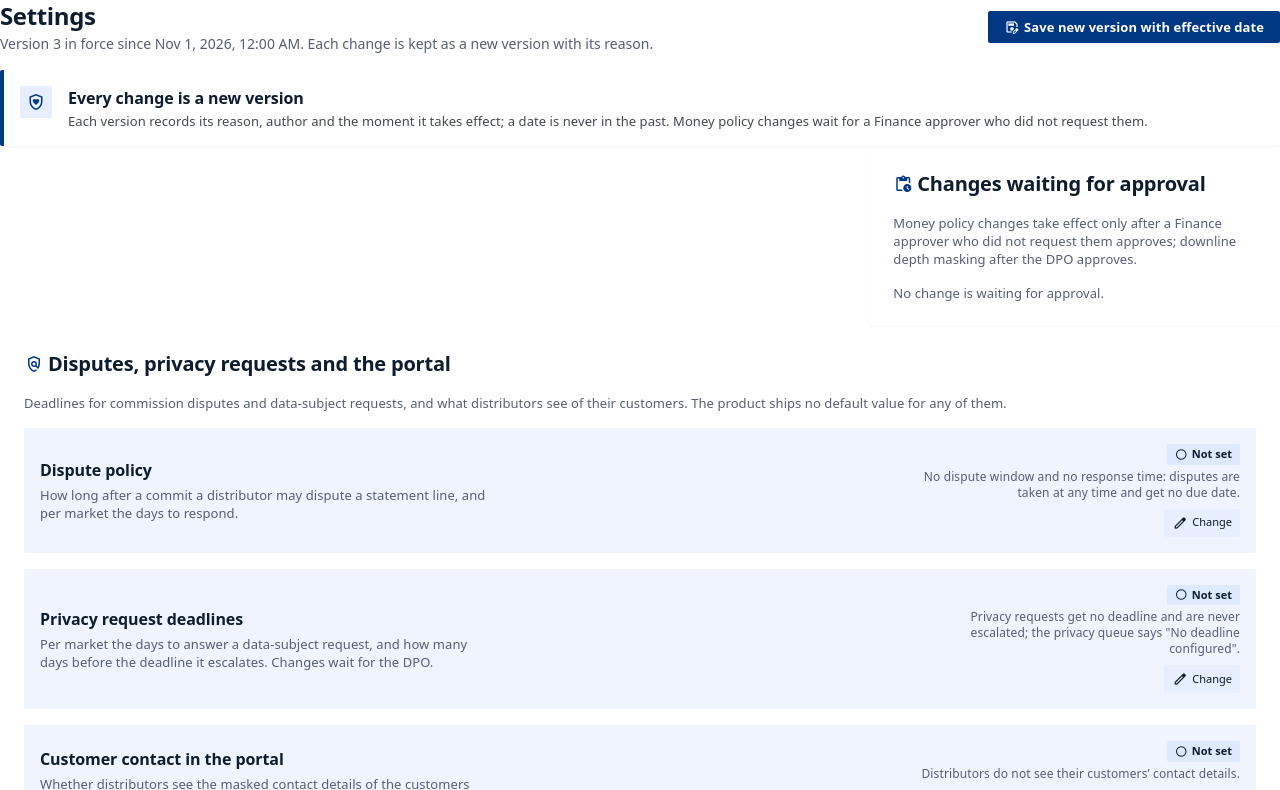
Test: SC-29 disputes, privacy requests and the portal › sends a privacy deadline change for the DPO’s approval through the version dialog
Click the button with aria-label "Change privacy request deadlines".
click(1202, 679)  # box top-left (1164, 665), bottom-right (1240, 693)
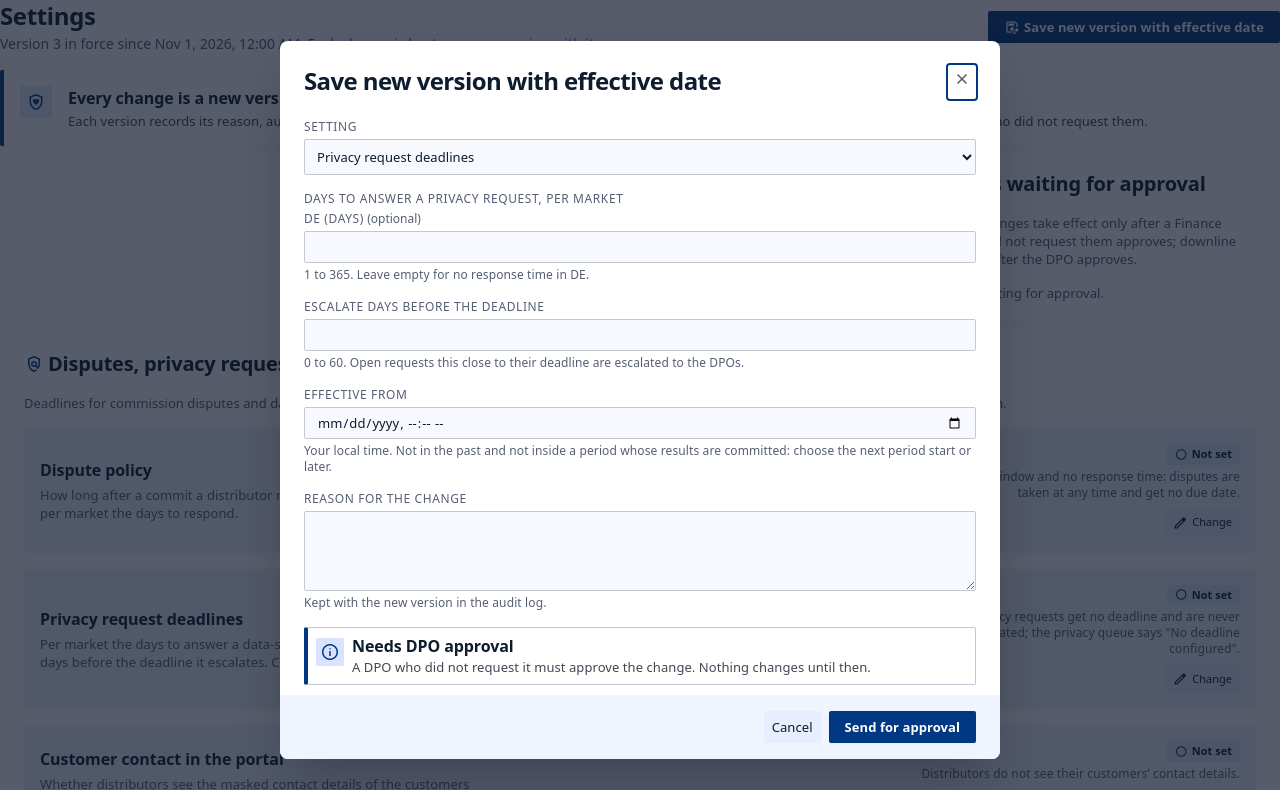
Result: the text "Needs DPO approval" is shown at top-left (352, 635), bottom-right (514, 657)
Type "30" into the field labelled "DE (days) (optional)".
click(640, 247); type("30")  # box top-left (304, 231), bottom-right (976, 263)
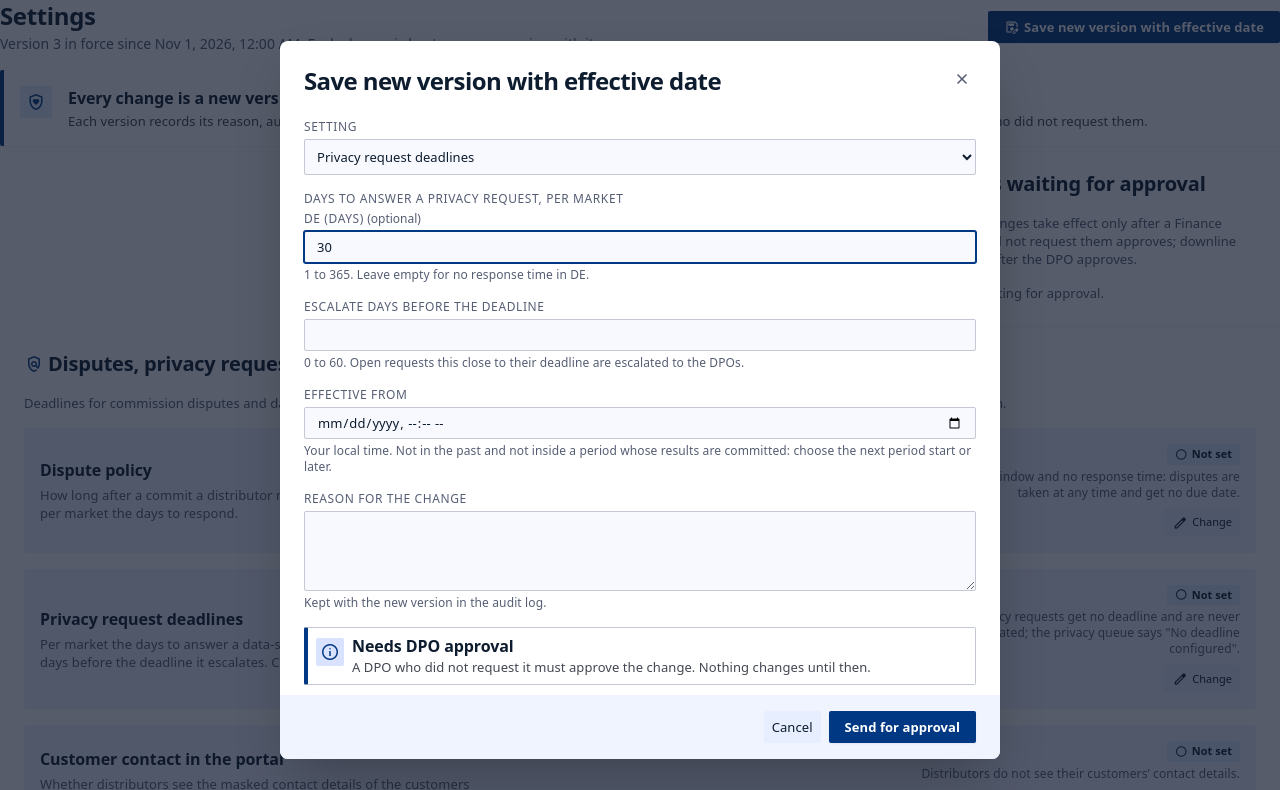
Type "5" into the field labelled "Escalate days before the deadline".
click(640, 335); type("5")  # box top-left (304, 319), bottom-right (976, 351)
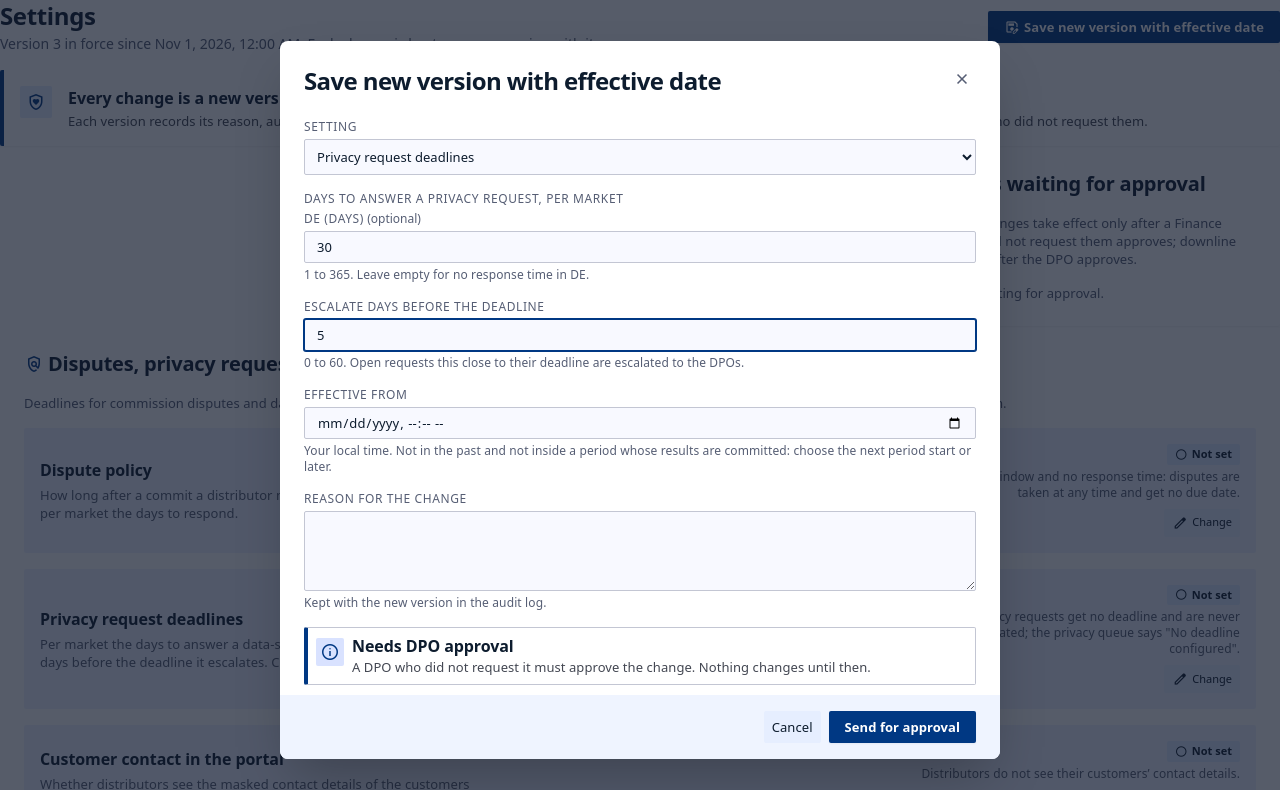
Type "2099-12-01T00:00" into the field labelled "Effective from".
click(640, 423); type("2099-12-01T00:00")  # box top-left (304, 407), bottom-right (976, 439)
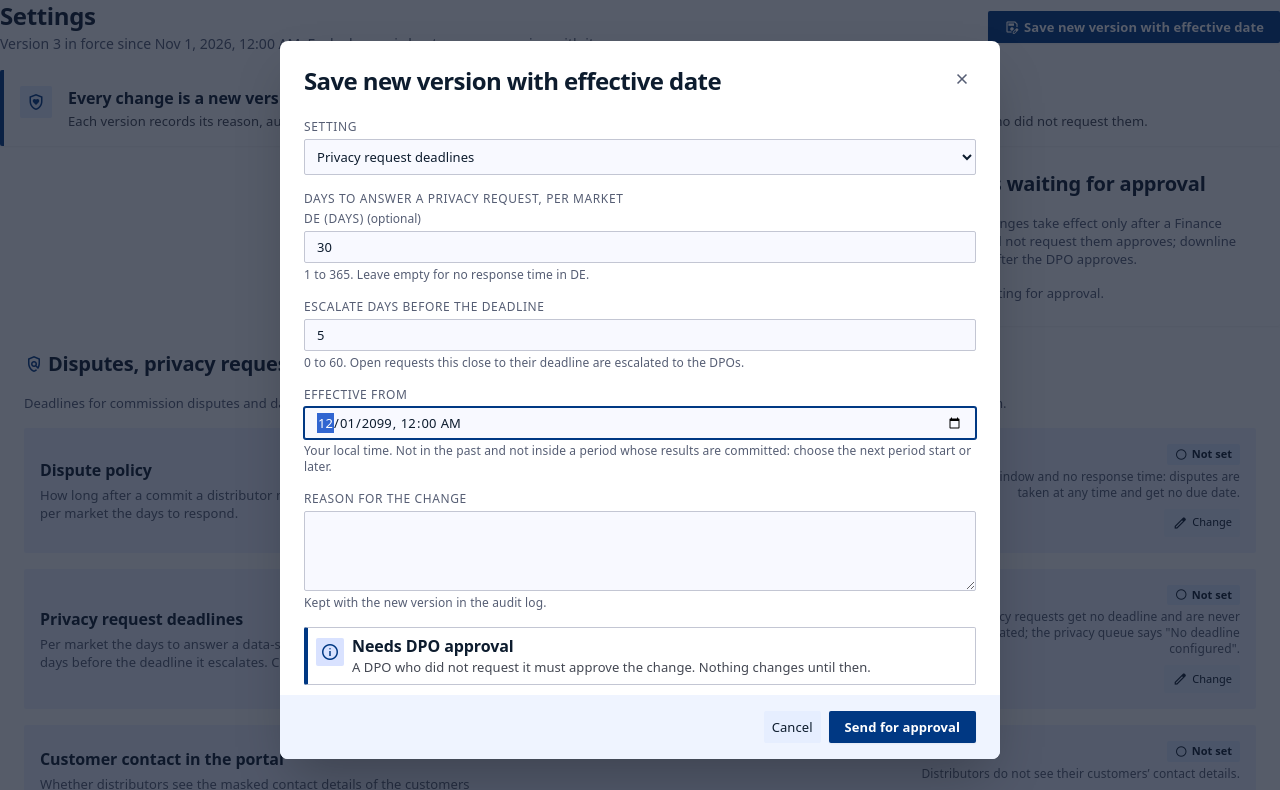
Type "Statutory deadline" into the text box labelled "Reason for the change".
click(640, 551); type("Statutory deadline")  # box top-left (304, 511), bottom-right (976, 591)
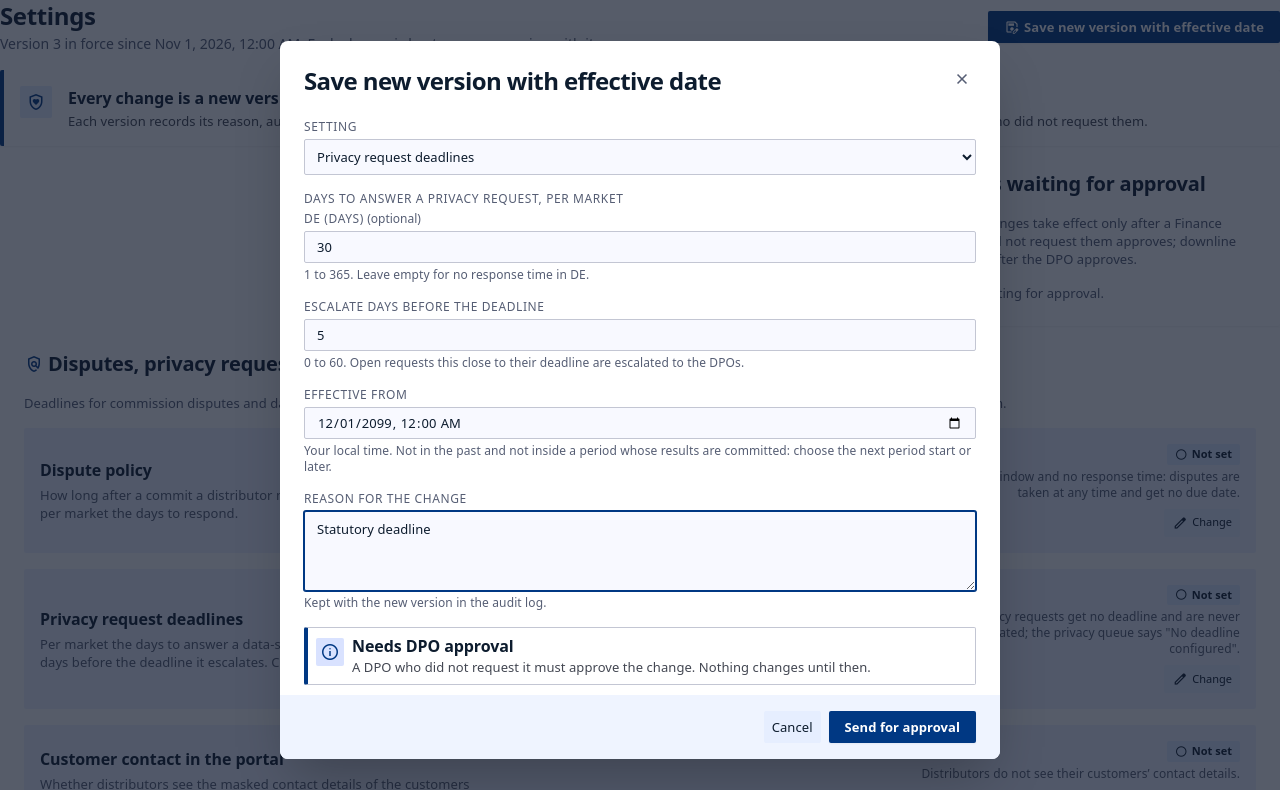
Click the button "Send for approval".
click(902, 727)  # box top-left (829, 711), bottom-right (976, 743)
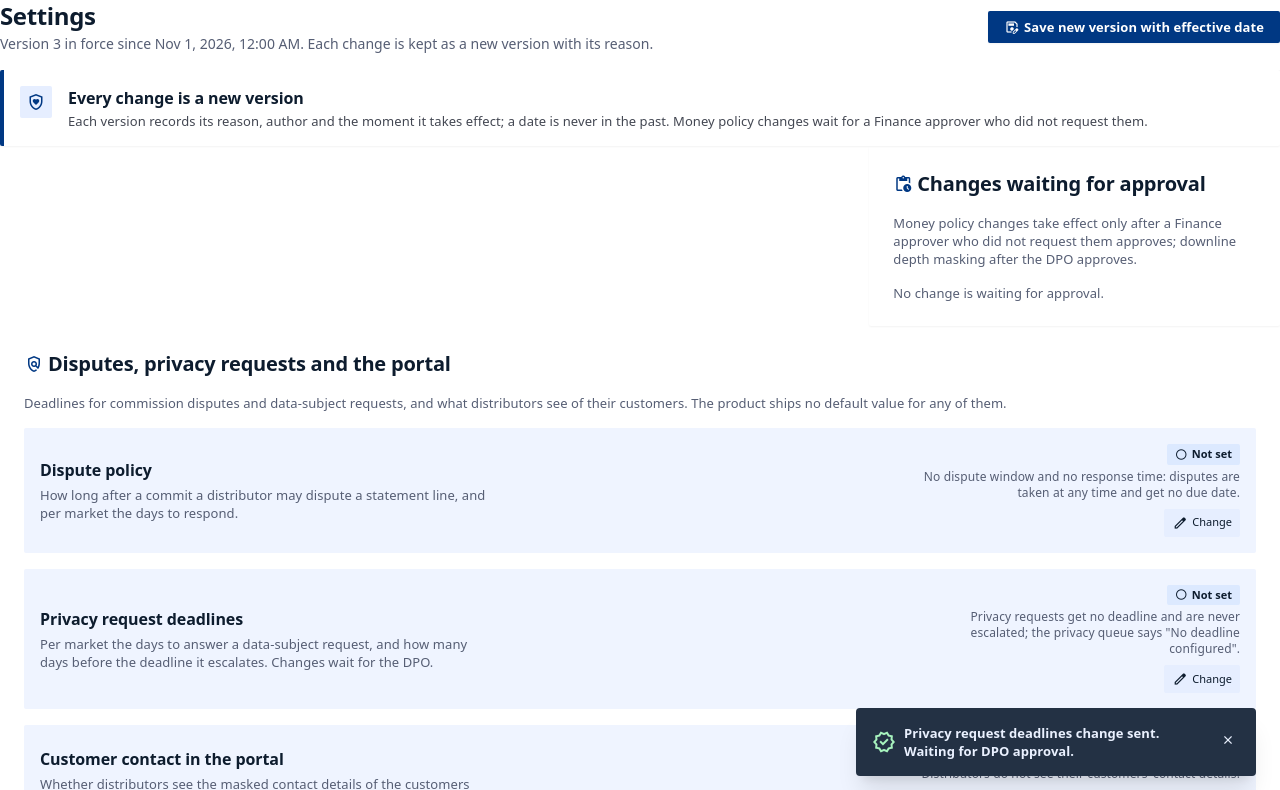
Result: the text "Privacy request deadlines change sent" is shown at top-left (904, 724), bottom-right (1159, 760)
